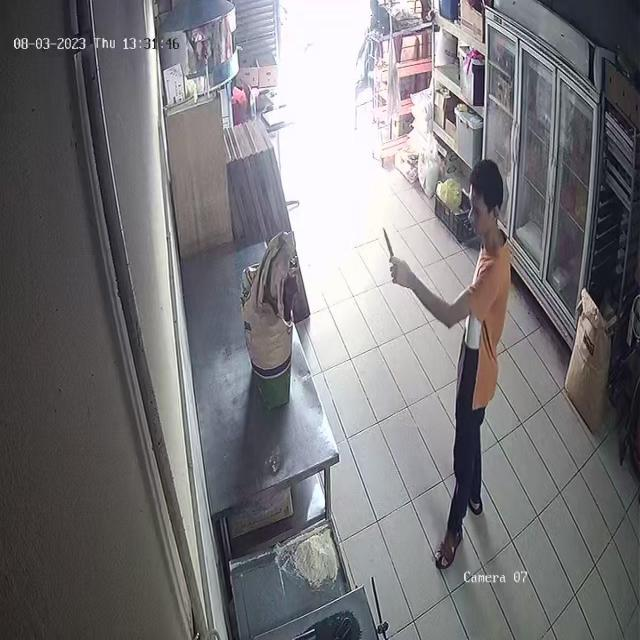Knife: (374, 218, 414, 282)
